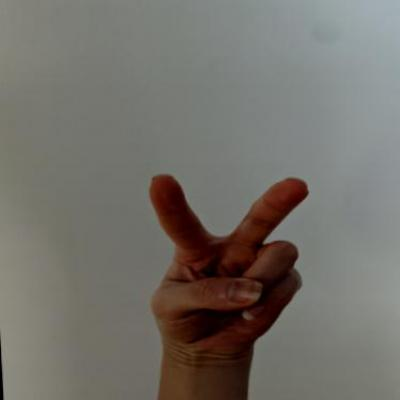hand: (137, 164, 322, 356)
